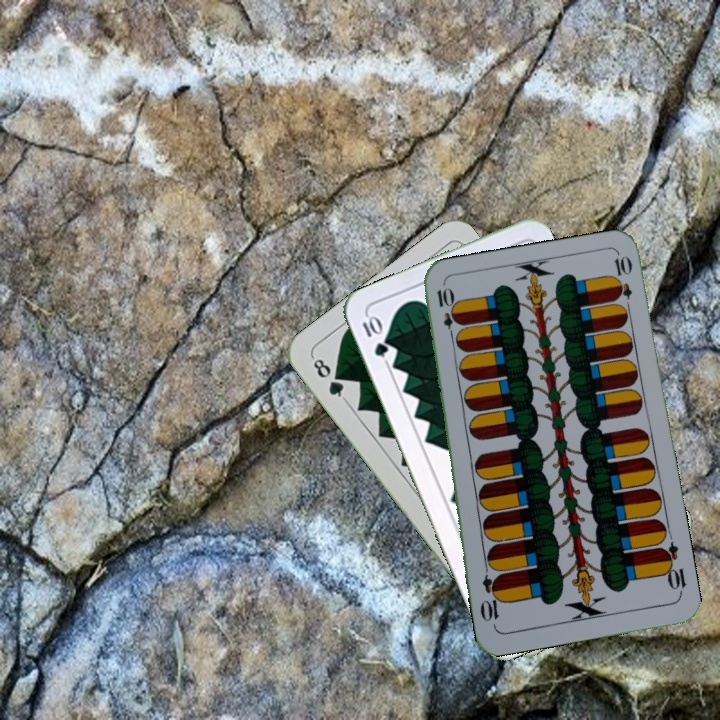E10: (656, 539, 689, 598), (432, 284, 459, 343)
G10: (358, 311, 391, 360)
G8: (308, 353, 349, 403)
